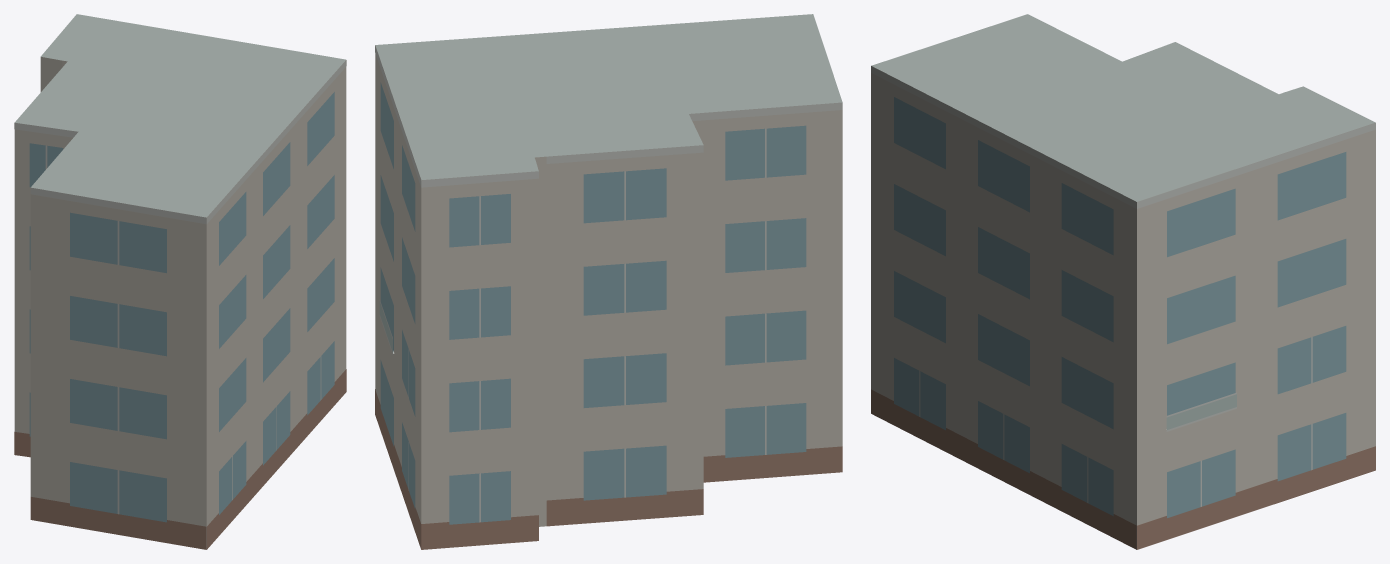
File: survey-upis-32690645.glb
The picture shows the model from 3 angles, left to right: view 1: azimuth 30°, elevation 25°; view 2: azimuth 150°, elevation 25°; view 3: azimuth 270°, elevation 25°; orthographic projection. The views are drawn at different scales.
Parts seen in each view (by area): view 1: survey-upis-32690645.tmp; view 2: survey-upis-32690645.tmp; view 3: survey-upis-32690645.tmp.
Part boxes in pixels (x1,y1,x2,y2): survey-upis-32690645.tmp: [14, 14, 346, 549]; survey-upis-32690645.tmp: [375, 14, 842, 549]; survey-upis-32690645.tmp: [871, 14, 1375, 549].
Bounding box in the file's own units: 14 × 12.07 × 15.88.
